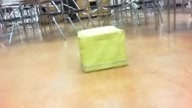cube: (77, 25, 126, 73)
